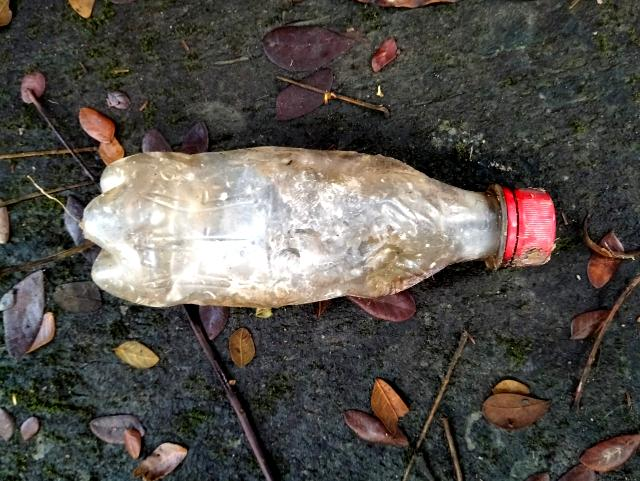bottle: (78, 126, 563, 320)
